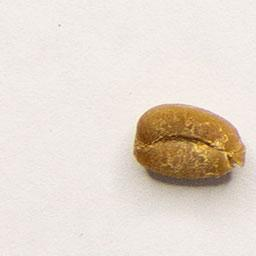defect: (130, 98, 249, 187)
